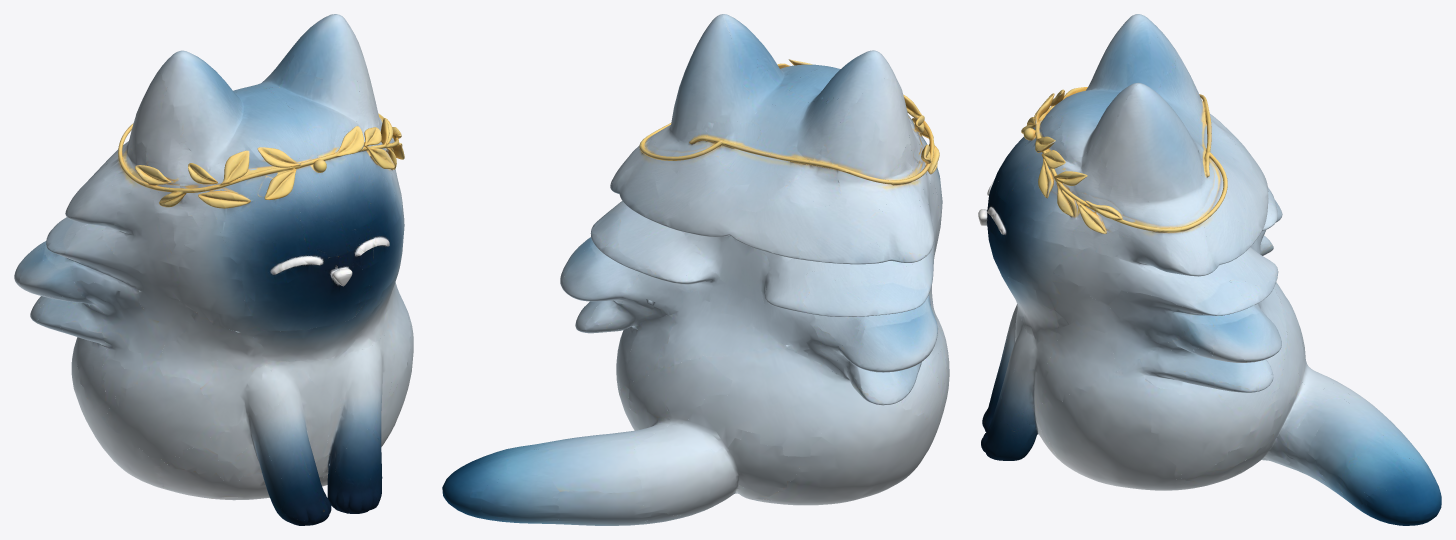
The model's file is laurel-crown-CAPob2JP.glb.
3 renders of one model, left to right at view 1: azimuth 30°, elevation 25°; view 2: azimuth 150°, elevation 25°; view 3: azimuth 270°, elevation 25°, orthographic. The views are drawn at different scales.
Visible parts, largest first — view 1: worn-laurel-crown; view 2: worn-laurel-crown; view 3: worn-laurel-crown.
Part boxes in pixels (box(x1,y1,x2,y2)): worn-laurel-crown: box(14, 14, 413, 525); worn-laurel-crown: box(442, 14, 949, 525); worn-laurel-crown: box(978, 14, 1441, 525).
Bounding box in the file's own units: 1.74 × 1.8 × 1.9.
1 material, 1 textured.
